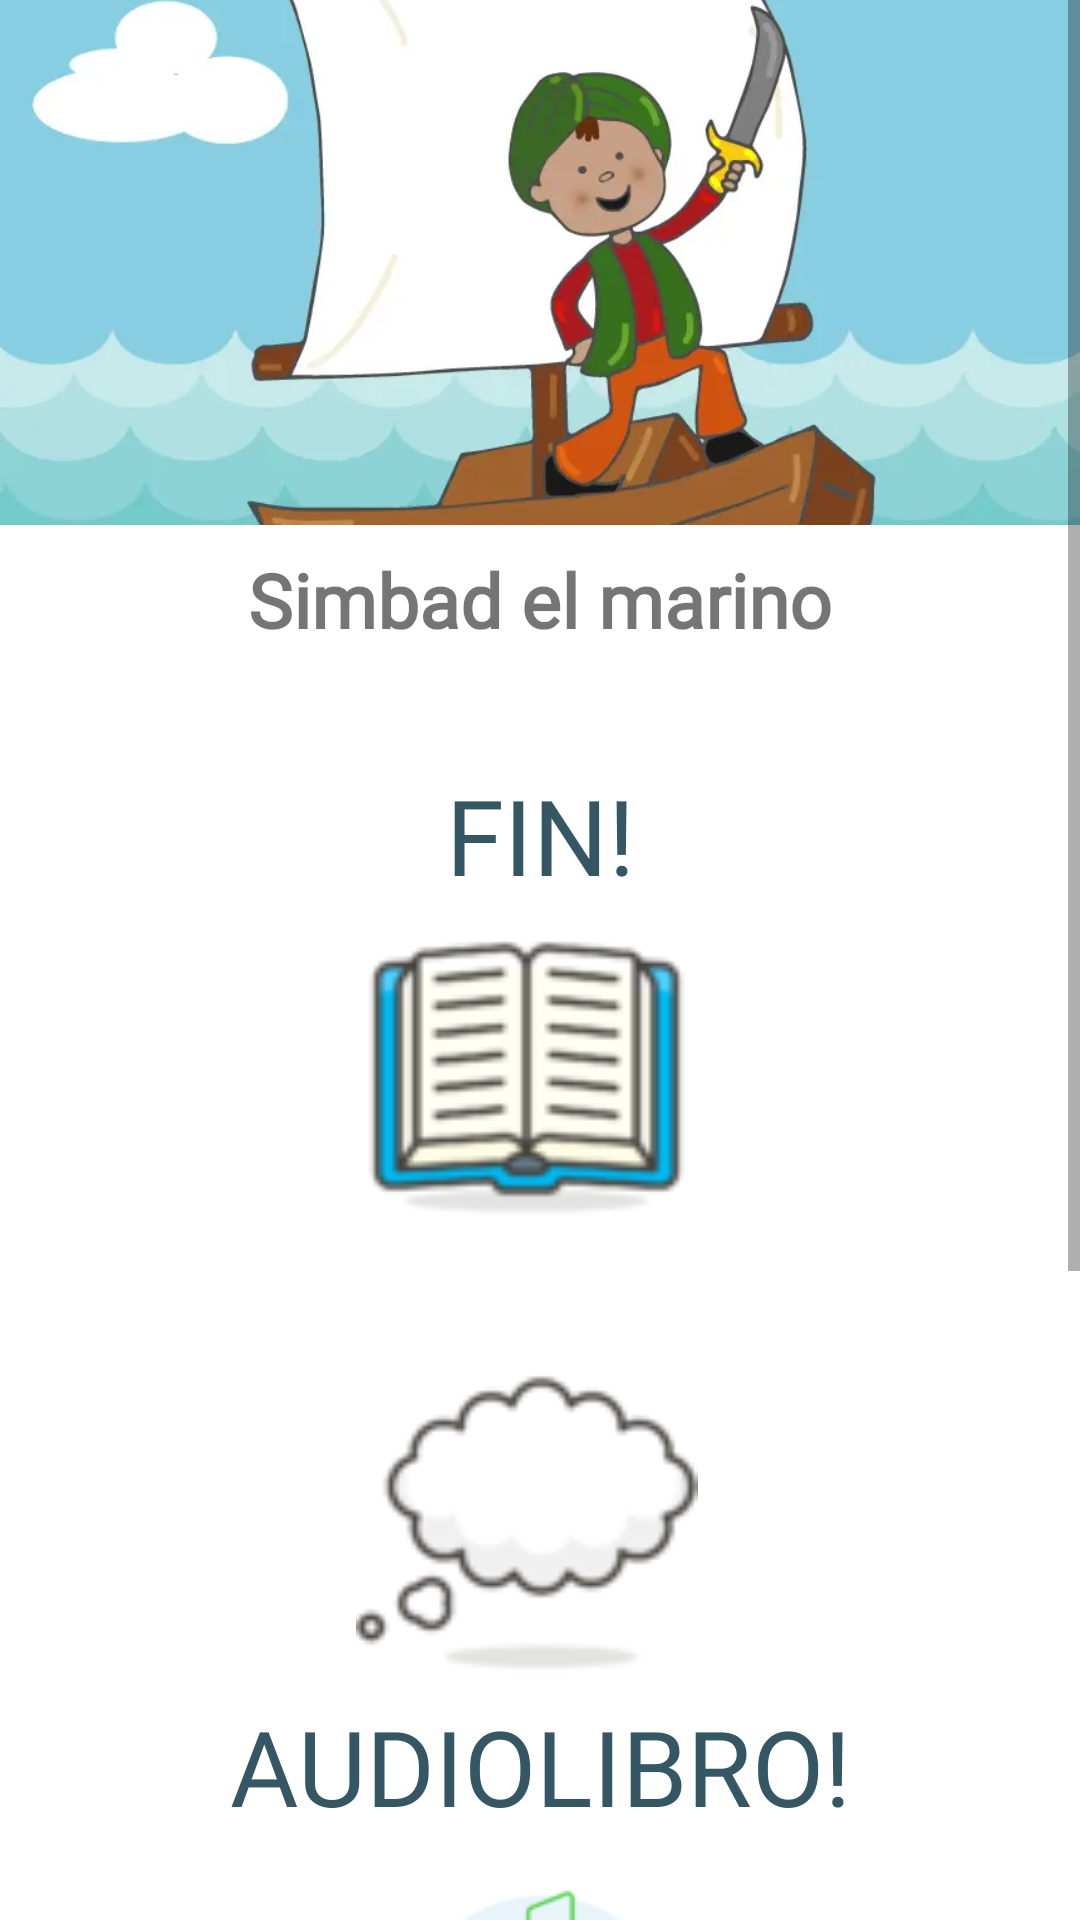

Point at icon controls on the screen. Image size 1080 x 1920, points as (x=x, y=y).
cuentoscortos: (x=526, y=1075)
